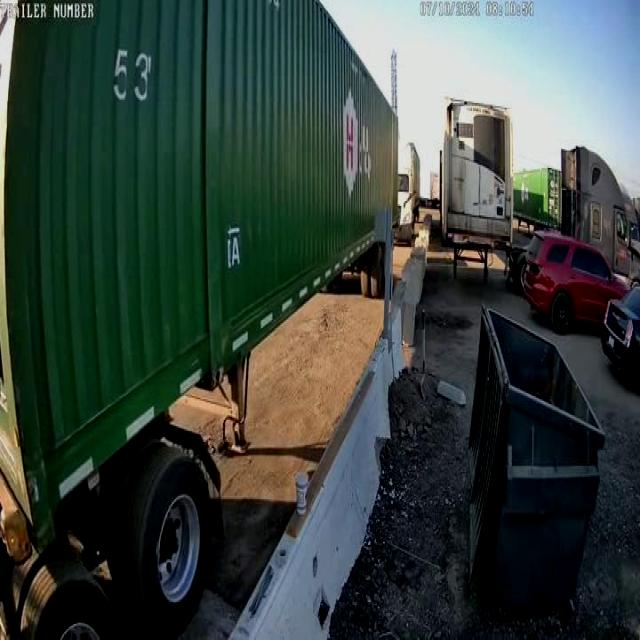CONTAINER: (0, 0, 402, 540)
